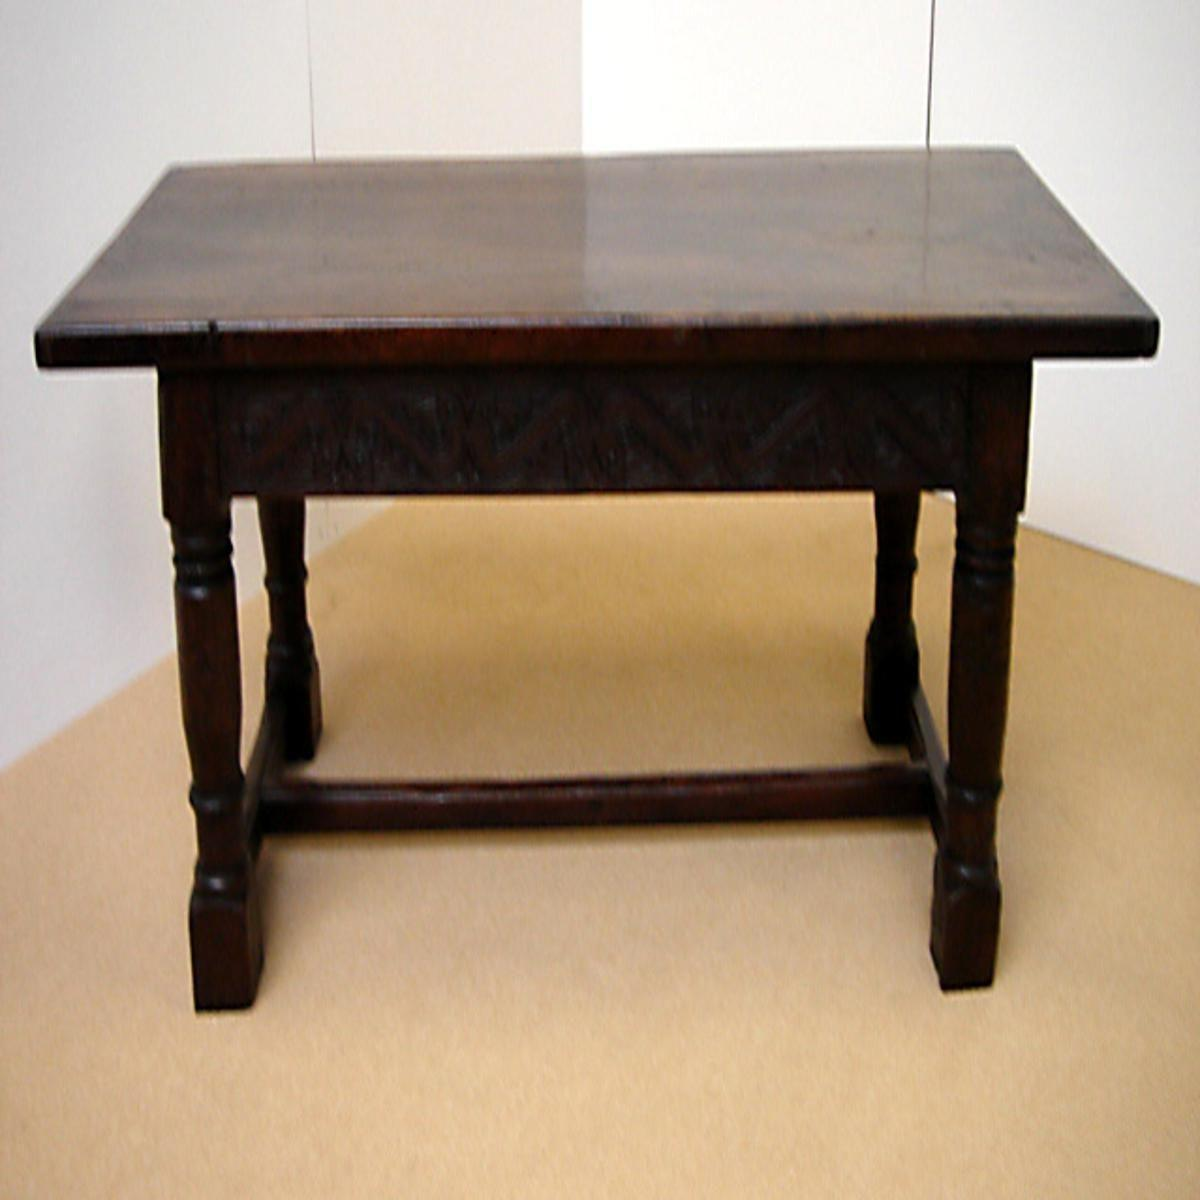Table: (16, 110, 1178, 1062)
